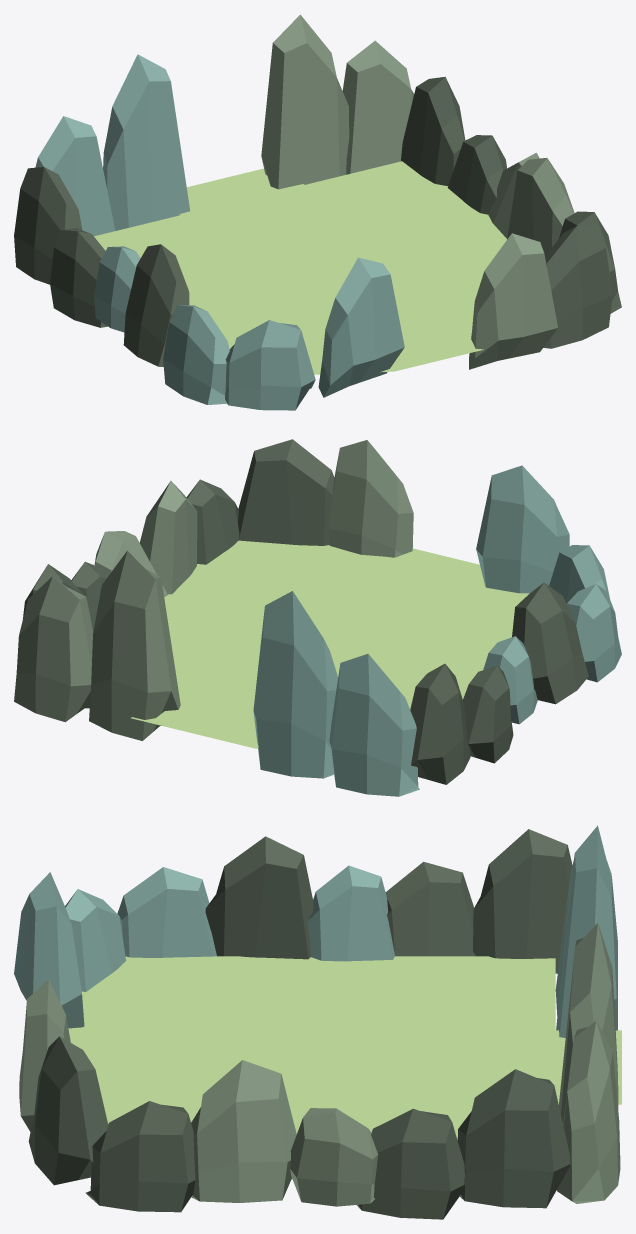
The model's file is GenbuStage4_MiniBoss.fbx.
The picture shows the model from 3 angles, top to bottom: view 1: azimuth 30°, elevation 25°; view 2: azimuth 150°, elevation 25°; view 3: azimuth 270°, elevation 25°; orthographic projection. The views are drawn at different scales.
Parts seen in each view (by area): view 1: Plane.030, Plane.054, Plane.056, Plane.060; view 2: Plane.030, Plane.054, Plane.056, Plane.060; view 3: Plane.030, Plane.060, Plane.056, Plane.054.
Part boxes in pixels (left/top/right/bottom): Plane.030: left=94, top=161, right=506, bottom=374; Plane.054: left=35, top=54, right=404, bottom=410; Plane.056: left=261, top=14, right=574, bottom=369; Plane.060: left=14, top=76, right=621, bottom=366; Plane.030: left=131, top=540, right=529, bottom=748; Plane.054: left=253, top=465, right=621, bottom=796; Plane.056: left=14, top=440, right=413, bottom=740; Plane.060: left=23, top=439, right=588, bottom=784; Plane.030: left=68, top=956, right=621, bottom=1178; Plane.060: left=28, top=829, right=572, bottom=1219; Plane.056: left=19, top=923, right=620, bottom=1206; Plane.054: left=14, top=825, right=617, bottom=1037.
Size of the model in its own units: 102 by 39.52 by 99.02.
